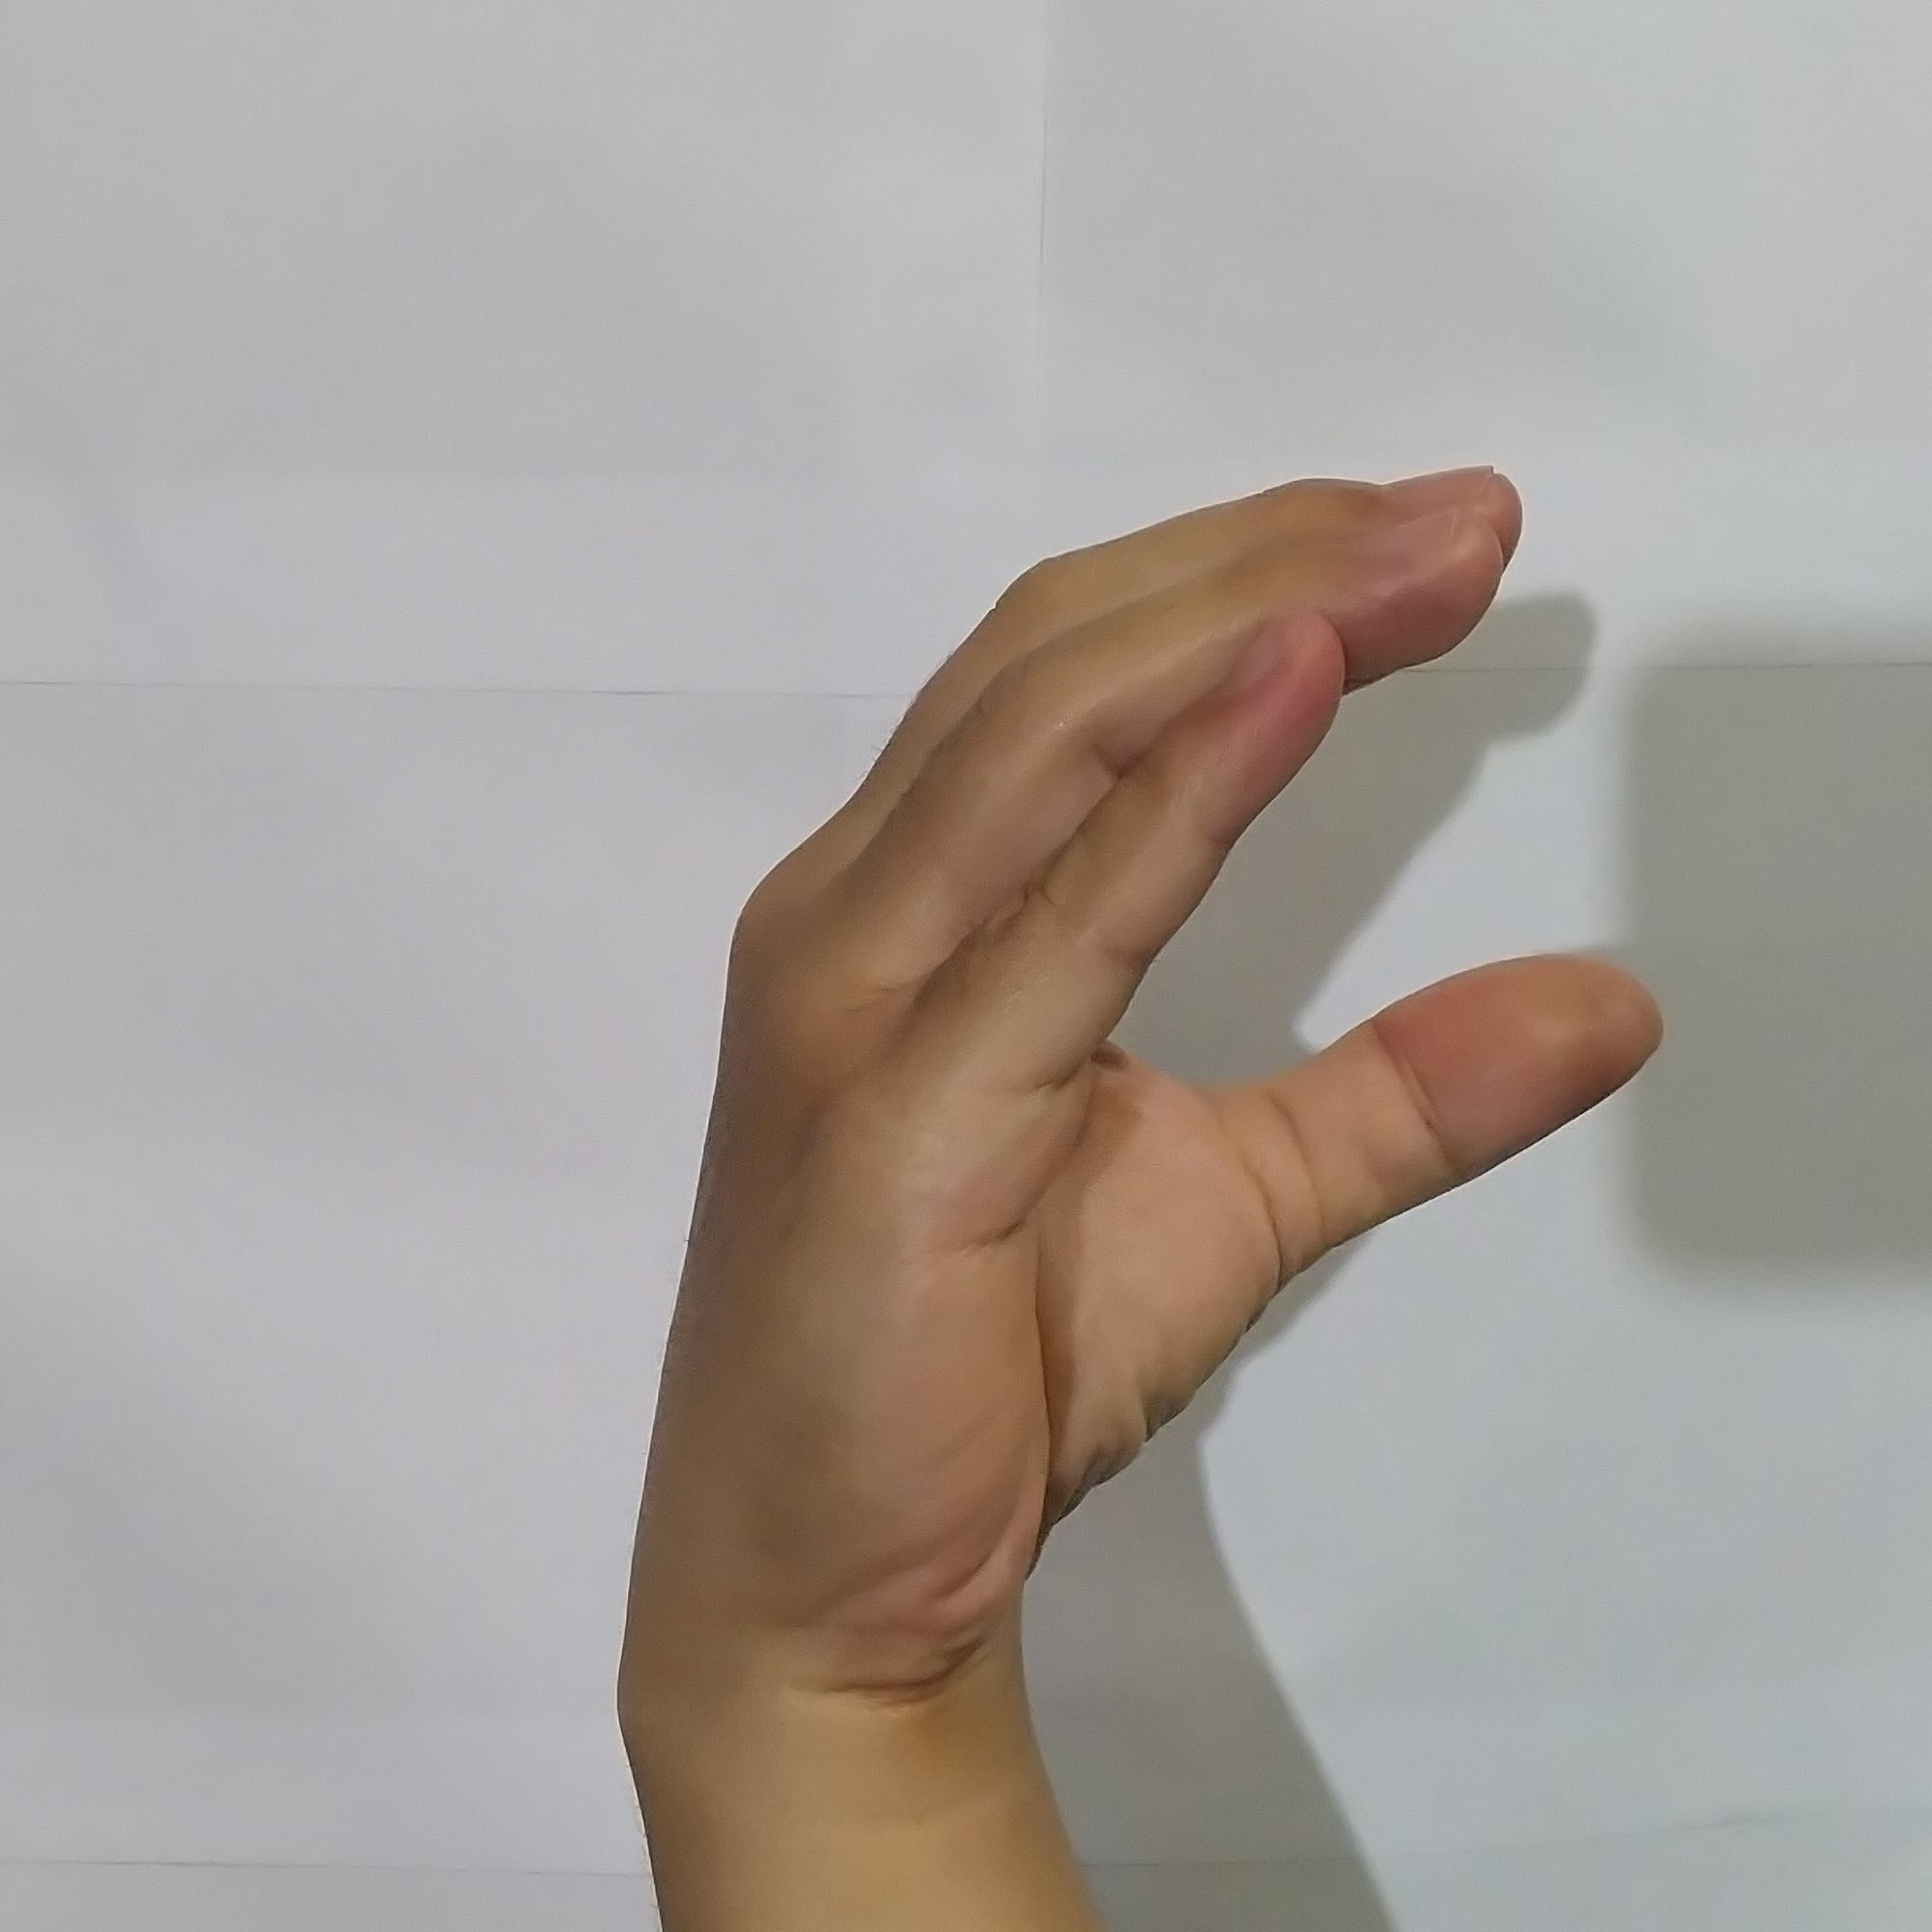C: (610, 442, 1679, 1644)
